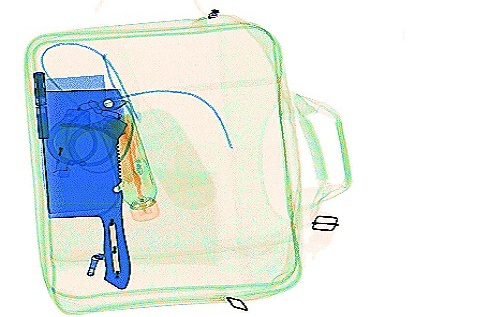handcuffs: (45, 96, 128, 168)
knife: (39, 87, 131, 289)
lighter: (53, 118, 74, 178)
pressure: (100, 111, 159, 222)
